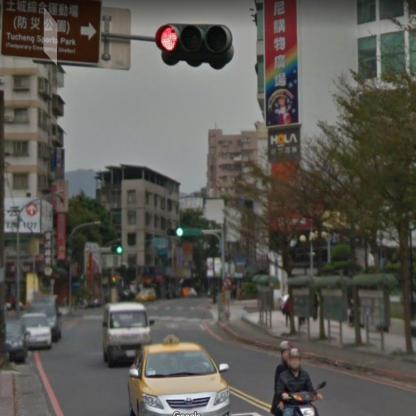Green Light: (164, 226, 186, 238), (108, 245, 124, 254)
Red Light: (154, 22, 235, 64)
